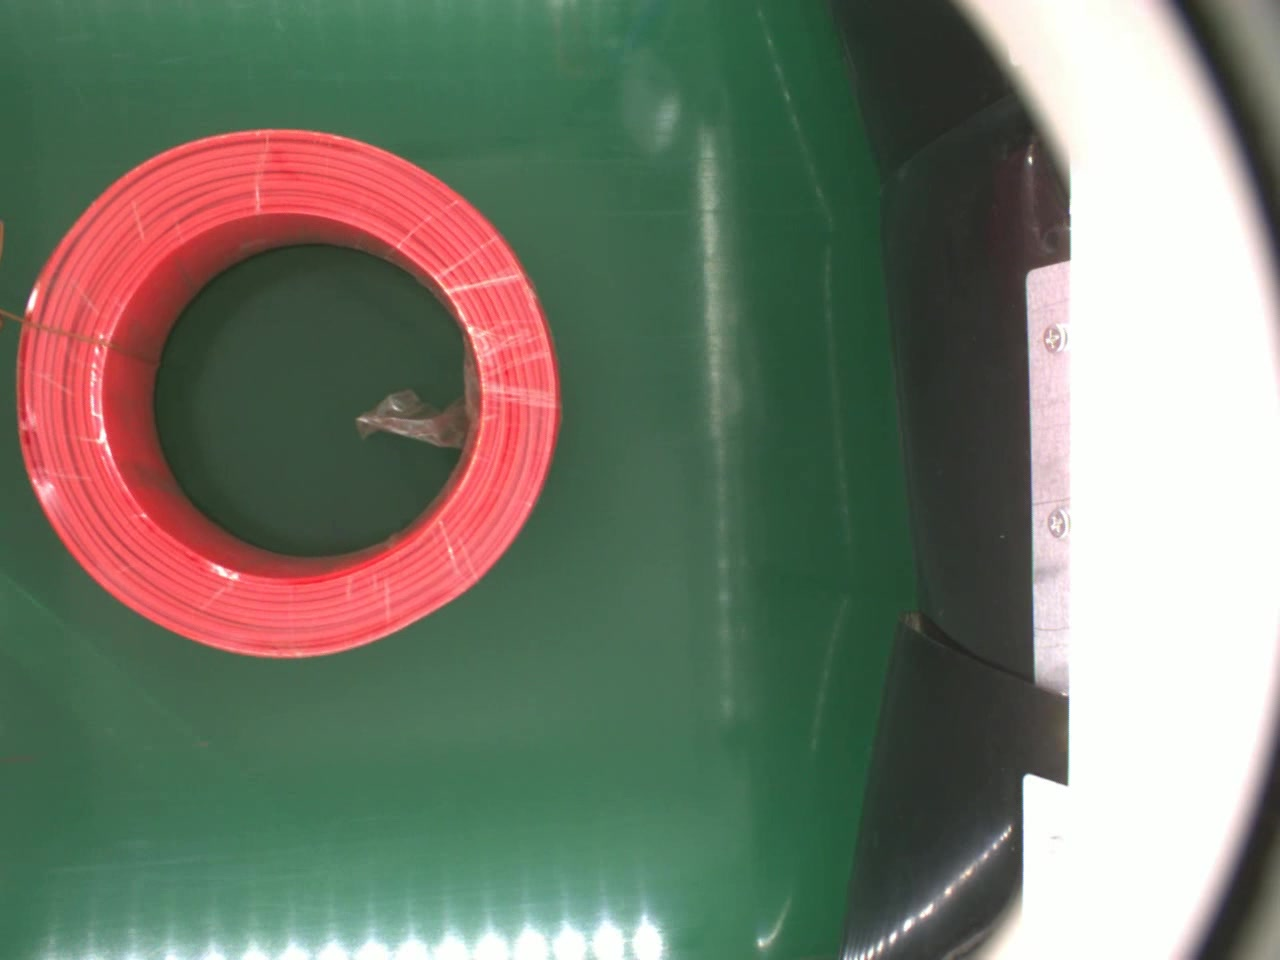red: (13, 129, 565, 658)
